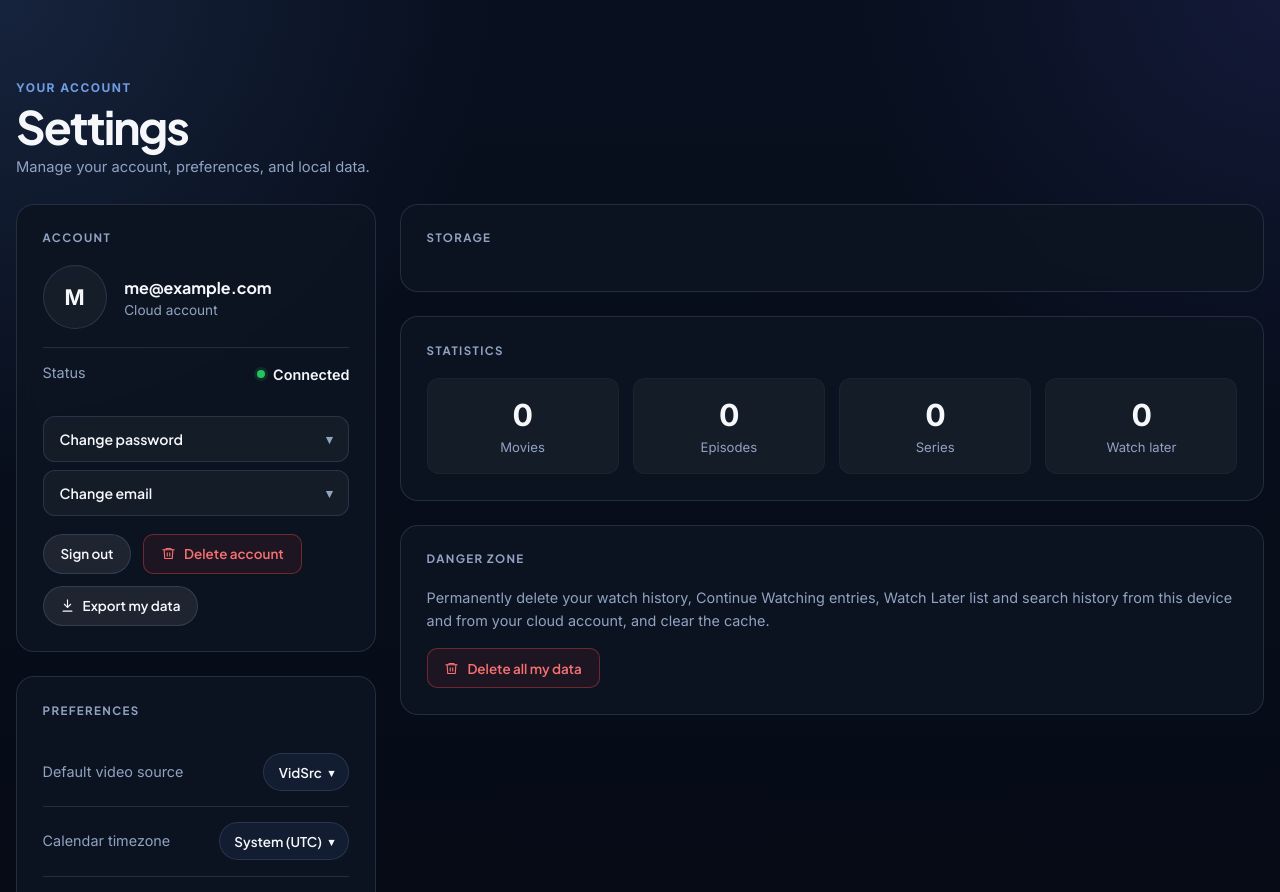
Test case: Settings > delete account › shows the translated wrong-password message and keeps the dialog open
This screenshot has width=1280, height=892.
Step 1. Click the button "Delete account" → (222, 554), box [143, 534, 302, 574]
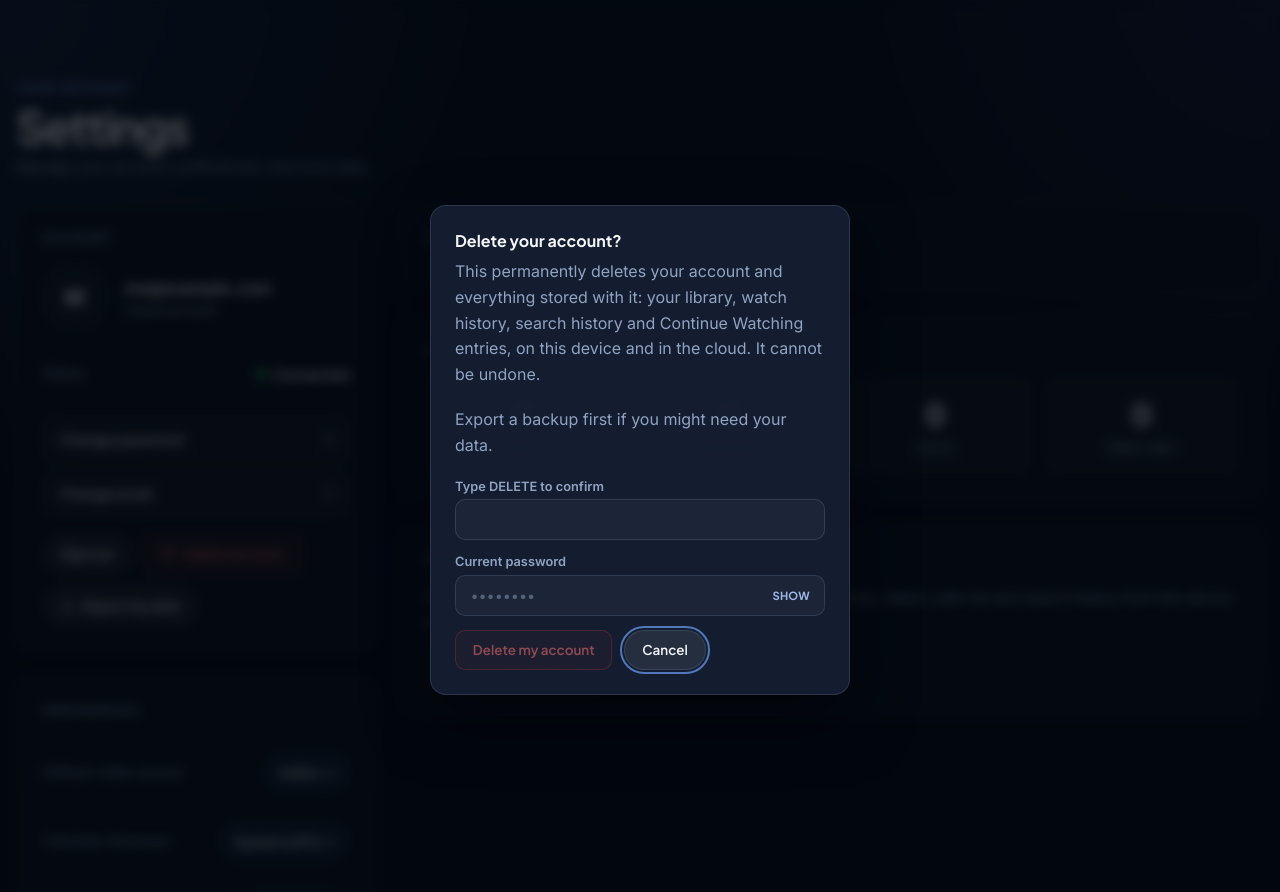
Step 2. Type "DELETE" into the field labelled "Type DELETE to confirm" → (640, 520), box [455, 499, 825, 540]
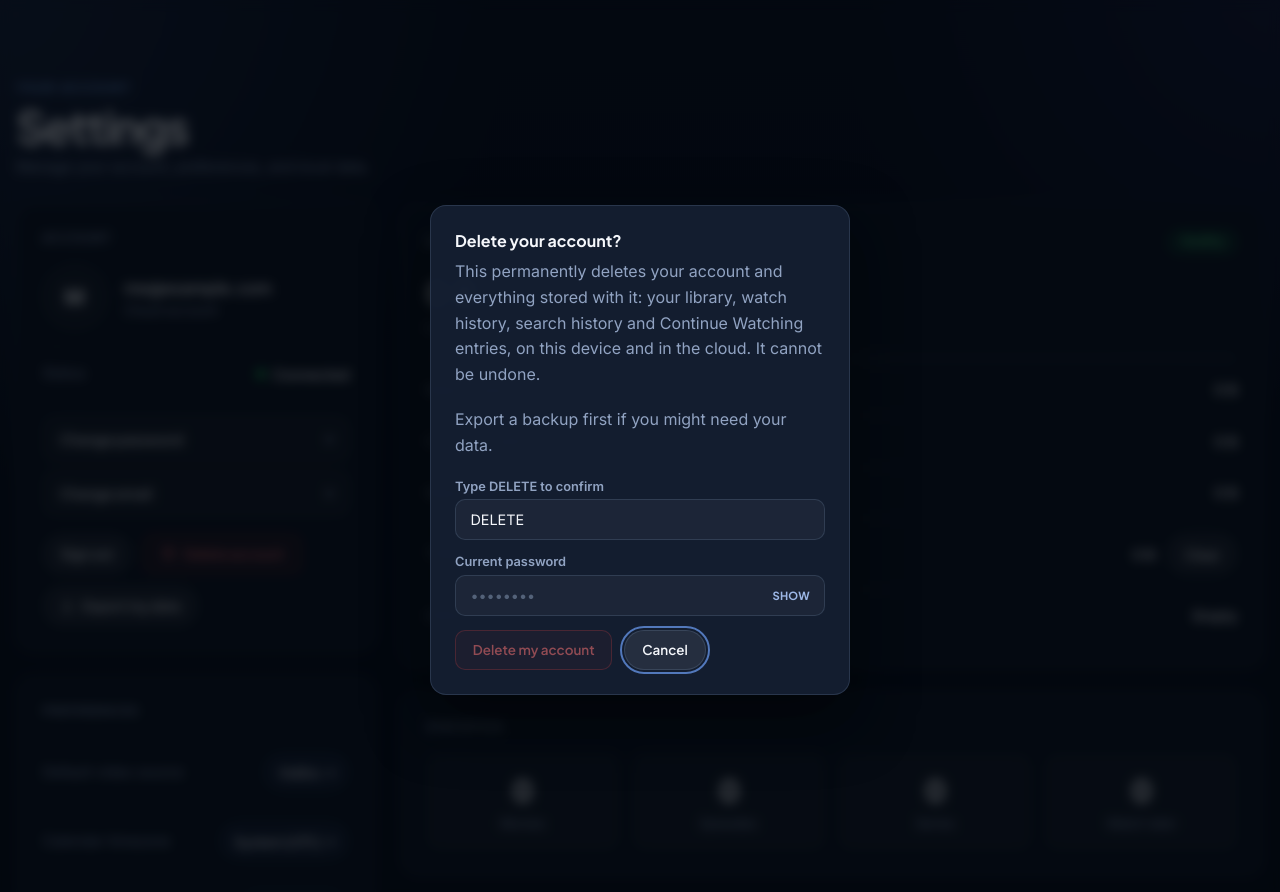
Step 3. Type "nope" into the password field labelled "Current password Show" → (640, 595), box [455, 575, 825, 616]
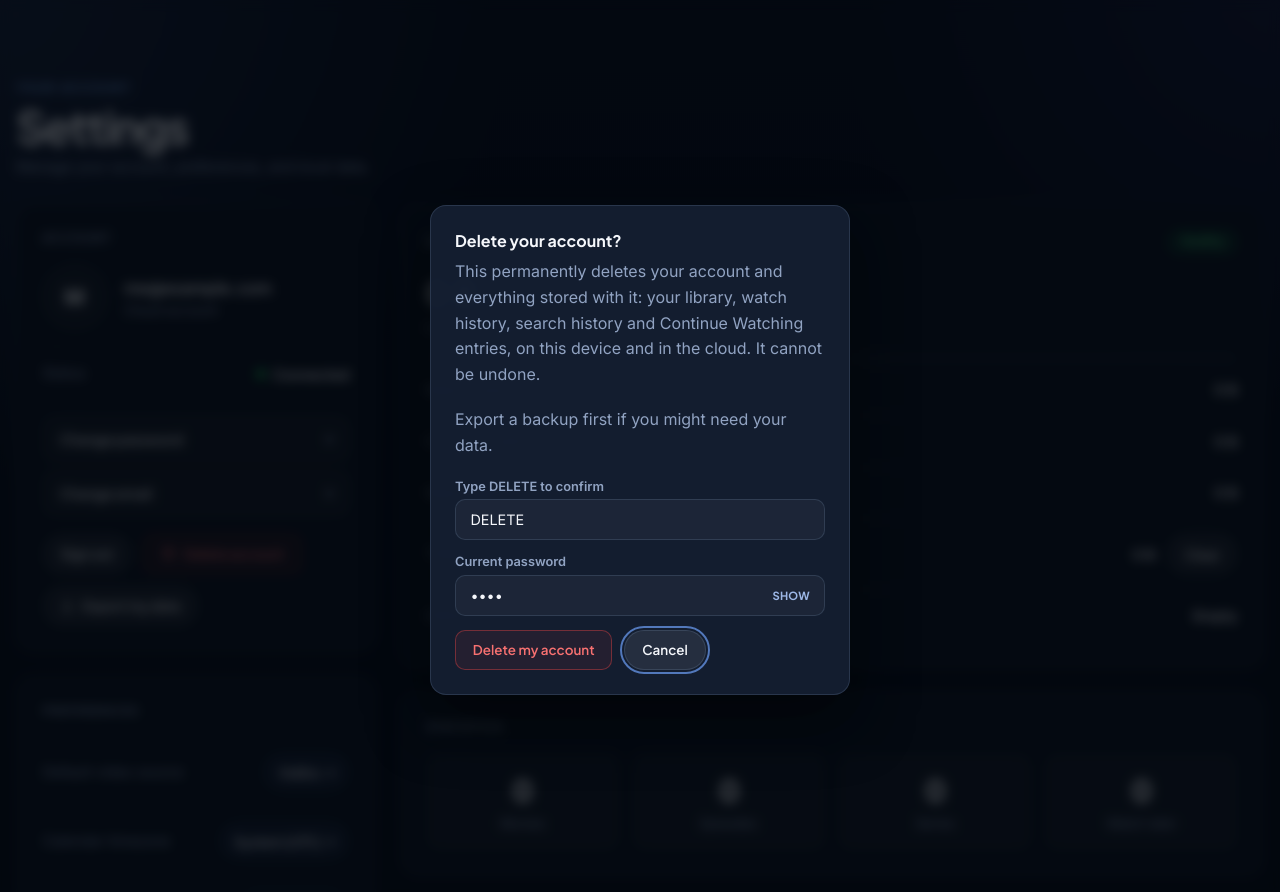
Step 4. Click the button "Delete my account" → (534, 650), box [455, 630, 612, 670]
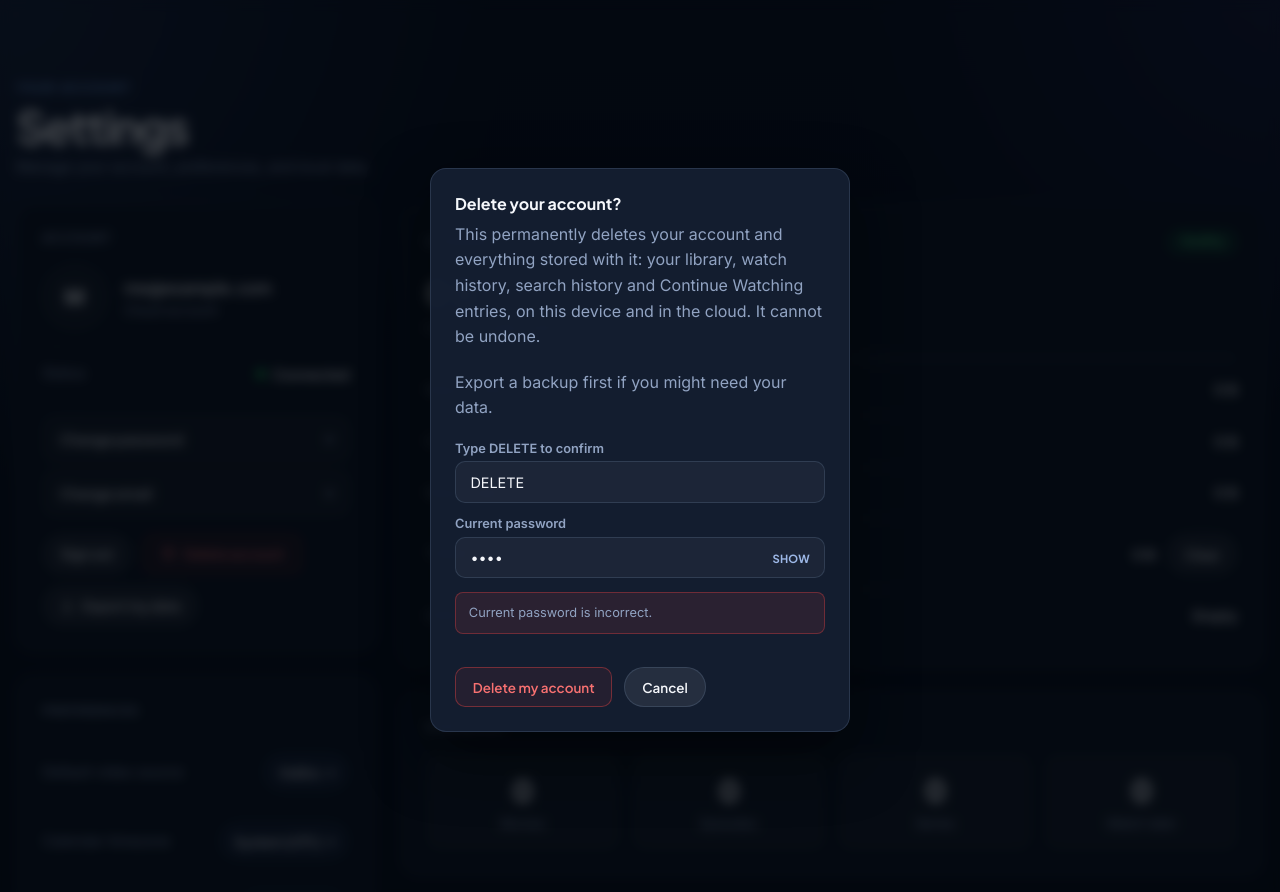
Check: the dialog is shown, box [430, 168, 850, 732]
Check: the message reads "Current password is incorrect.", box [469, 605, 652, 620]
